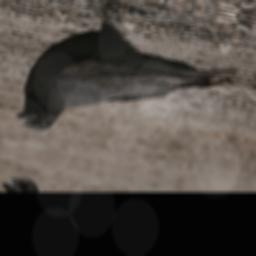Crow: (13, 0, 250, 169)
